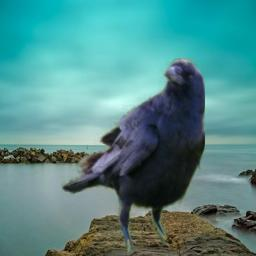Crow: (61, 58, 205, 253)
